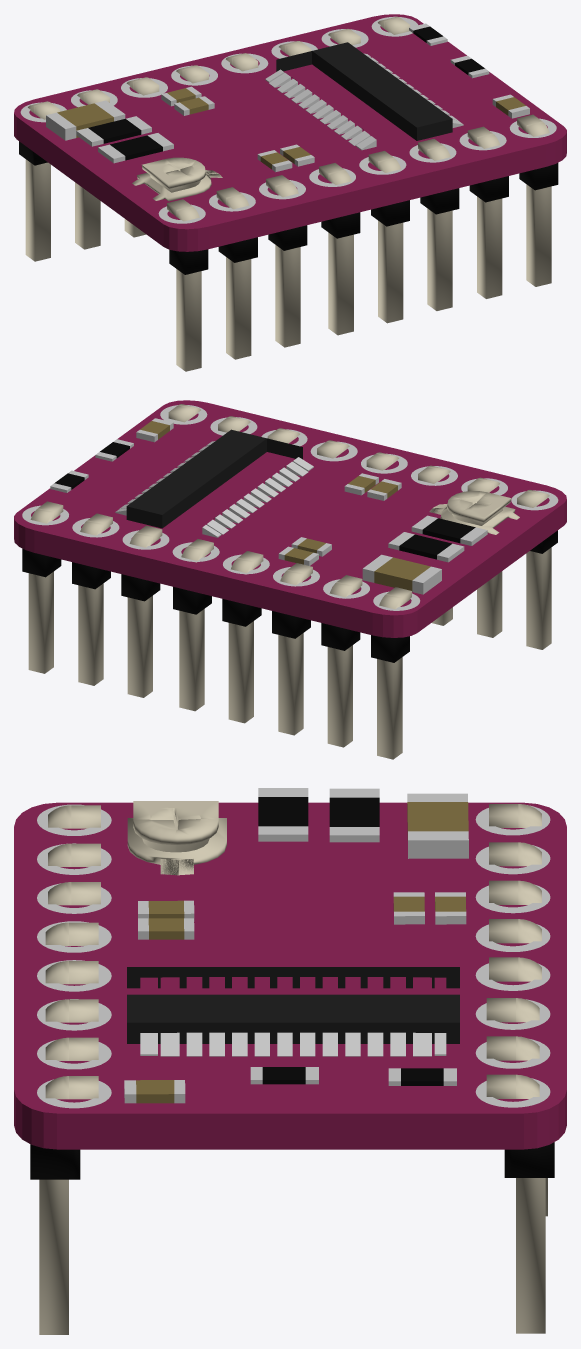
The model's file is drv8825.glb.
3 renders of one model, top to bottom at view 1: azimuth 30°, elevation 25°; view 2: azimuth 150°, elevation 25°; view 3: azimuth 270°, elevation 25°, orthographic. The views are drawn at different scales.
Parts seen in each view (by area): view 1: DRV8825_VioletPCB_0, DRV8825_Metallic_0, DRV8825_silverContacts_0, DRV8825_BlackPlastic_0, DRV8825_icEpoxy_0, DRV8825_glossmetal_0, DRV8825_BrownEpoxy_0; view 2: DRV8825_VioletPCB_0, DRV8825_Metallic_0, DRV8825_silverContacts_0, DRV8825_BlackPlastic_0, DRV8825_icEpoxy_0, DRV8825_BrownEpoxy_0, DRV8825_glossmetal_0; view 3: DRV8825_VioletPCB_0, DRV8825_Metallic_0, DRV8825_silverContacts_0, DRV8825_icEpoxy_0, DRV8825_BlackPlastic_0, DRV8825_glossmetal_0, DRV8825_BrownEpoxy_0.
Part boxes in pixels (x1,y1,x2,y2): DRV8825_VioletPCB_0: (14, 14, 566, 251); DRV8825_Metallic_0: (25, 16, 551, 371); DRV8825_silverContacts_0: (20, 16, 556, 223); DRV8825_BlackPlastic_0: (19, 26, 558, 274); DRV8825_icEpoxy_0: (276, 42, 452, 140); DRV8825_glossmetal_0: (132, 157, 222, 201); DRV8825_BrownEpoxy_0: (57, 88, 525, 169); DRV8825_VioletPCB_0: (14, 400, 566, 637); DRV8825_Metallic_0: (28, 404, 551, 759); DRV8825_silverContacts_0: (22, 405, 558, 610); DRV8825_BlackPlastic_0: (22, 442, 557, 662); DRV8825_icEpoxy_0: (126, 429, 302, 528); DRV8825_BrownEpoxy_0: (140, 421, 430, 591); DRV8825_glossmetal_0: (429, 491, 519, 534); DRV8825_VioletPCB_0: (14, 802, 566, 1149); DRV8825_Metallic_0: (39, 804, 547, 1334); DRV8825_silverContacts_0: (37, 788, 550, 1108); DRV8825_icEpoxy_0: (127, 967, 459, 1043); DRV8825_BlackPlastic_0: (30, 797, 554, 1179); DRV8825_glossmetal_0: (127, 801, 226, 875); DRV8825_BrownEpoxy_0: (136, 802, 468, 1103).
Size of the model in its own units: 0.0203 by 0.00794 by 0.0153.
